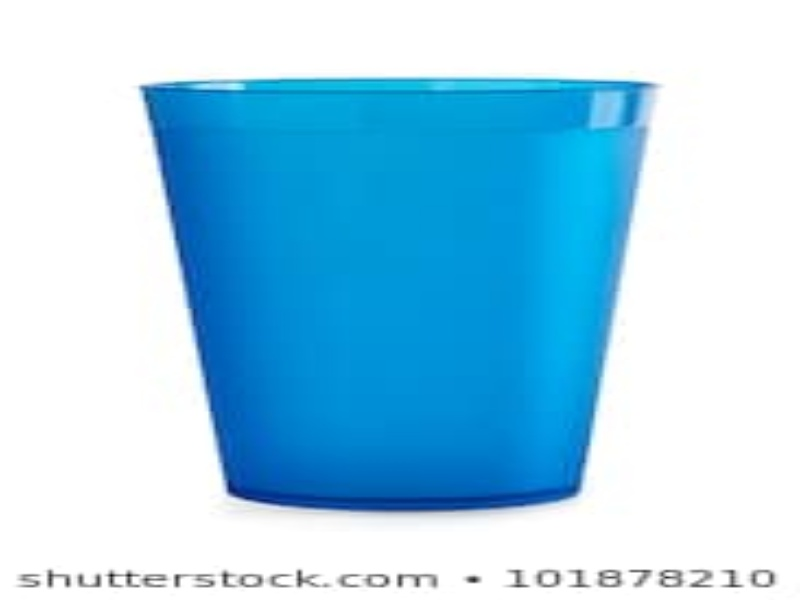plastic-cup: (135, 71, 663, 512)
